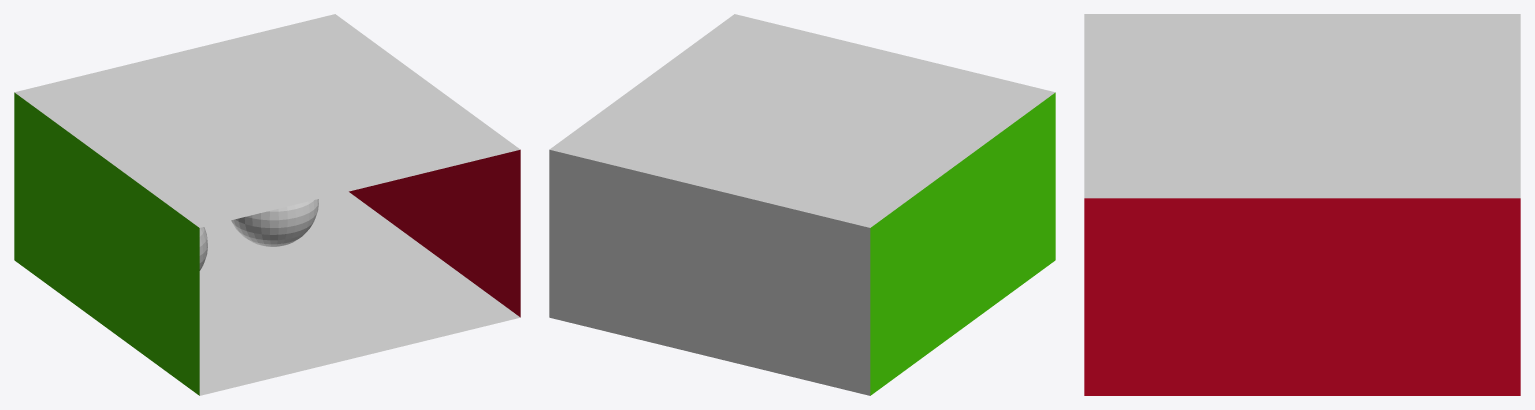
File: path_tracing_scene1.dae
The picture shows the model from 3 angles, left to right: view 1: azimuth 30°, elevation 25°; view 2: azimuth 150°, elevation 25°; view 3: azimuth 270°, elevation 25°; orthographic projection. The views are drawn at different scales.
Parts seen in each view (by area): view 1: Cube, Sphere.001; view 2: Cube; view 3: Cube.
Part boxes in pixels (box(x1,y1,x2,y2)): Cube: box(14, 14, 520, 395); Sphere.001: box(231, 199, 318, 246); Cube: box(549, 14, 1055, 395); Cube: box(1084, 14, 1520, 395).
Bounding box in the file's own units: 8 × 8 × 4.
